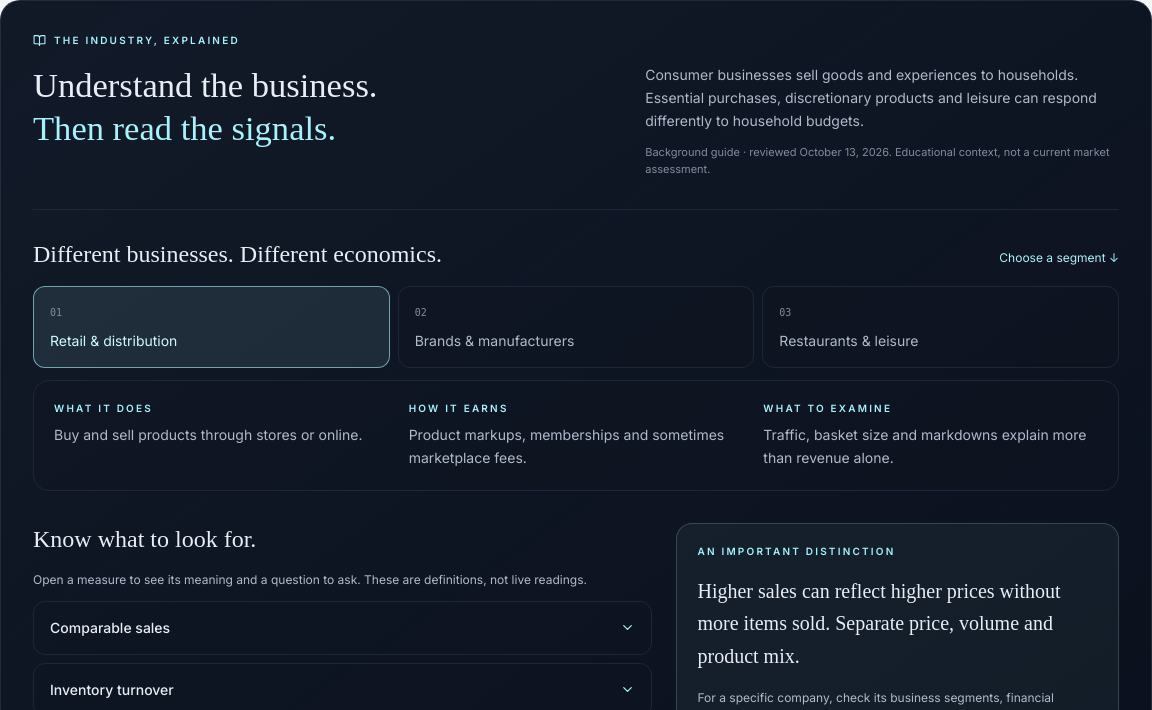
Test: provides a usable distinct guide for consumer even without reporting
Click the button "02 Brands & manufacturers".
click(494, 341)  # box top-left (398, 286), bottom-right (754, 368)
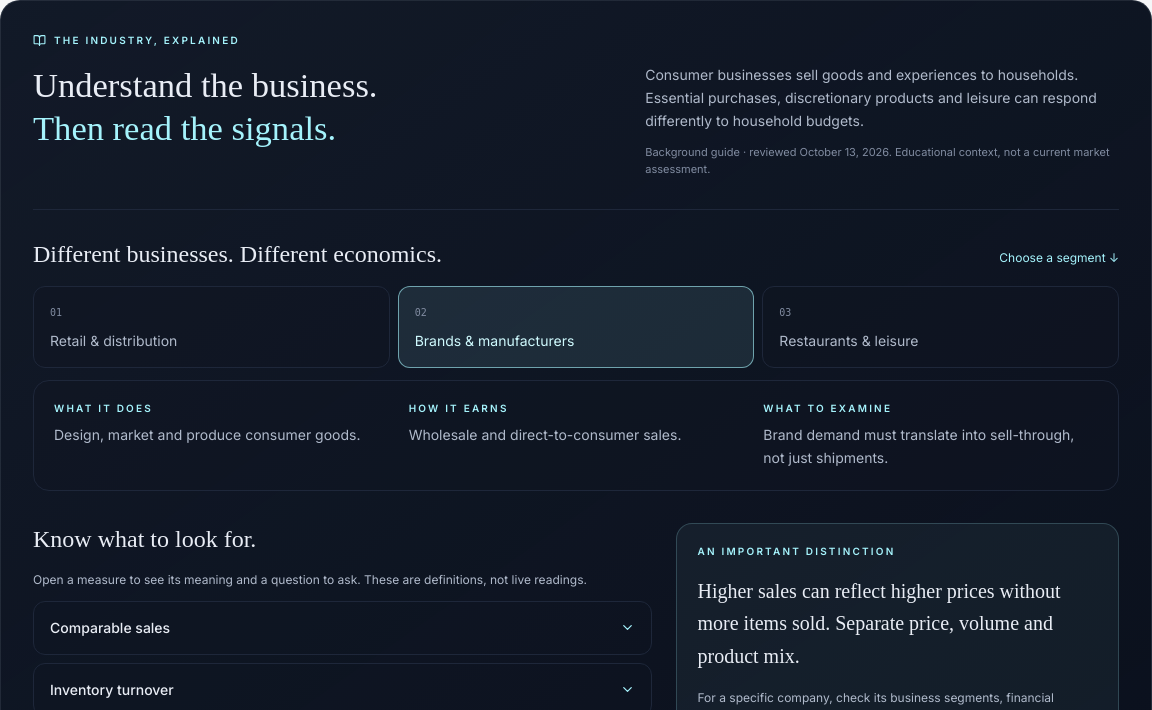
Expected: the text "definitions, not live readings" is shown, top-left (33, 572), bottom-right (587, 587)
Now the text "Wholesale and direct-to-consumer sales." is shown, box top-left (409, 426), bottom-right (682, 443)
Now the text "Product markups, memberships and sometimes marketplace fees." is gone
